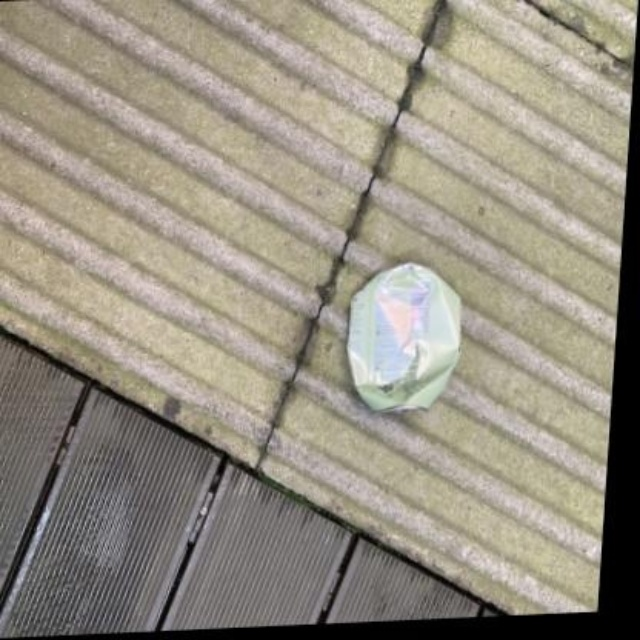trash: (348, 263, 460, 409)
